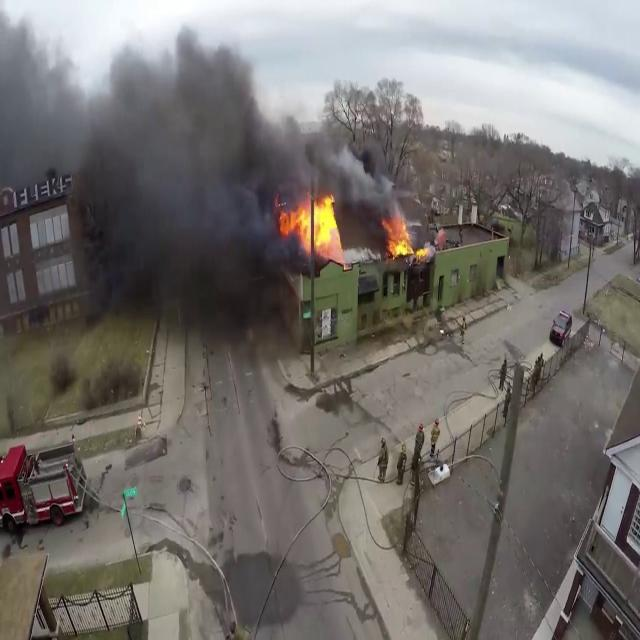Fire: (279, 183, 339, 254), (384, 212, 426, 265)
Smoke: (2, 0, 302, 324)
